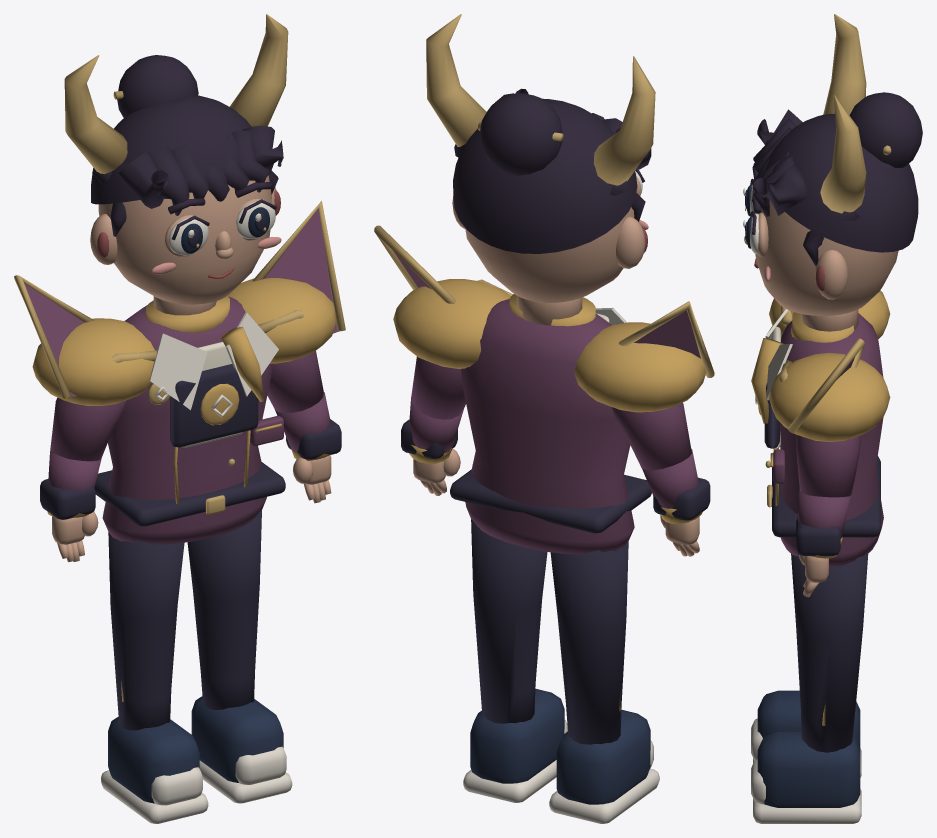
The model's file is elite_dragon_gatekeeper.glb.
3 views of the same model, side by side, from view 1: azimuth 30°, elevation 25°; view 2: azimuth 150°, elevation 25°; view 3: azimuth 270°, elevation 25° (orthographic). The views are drawn at different scales.
Parts seen in each view (by area): view 1: figure.028; view 2: figure.028; view 3: figure.028.
Part boxes in pixels (x1,y1,x2,y2): figure.028: (14,14,345,823); figure.028: (374,14,714,823); figure.028: (743,14,922,823).
Size of the model in its own units: 1.13 by 2.63 by 0.5803.
